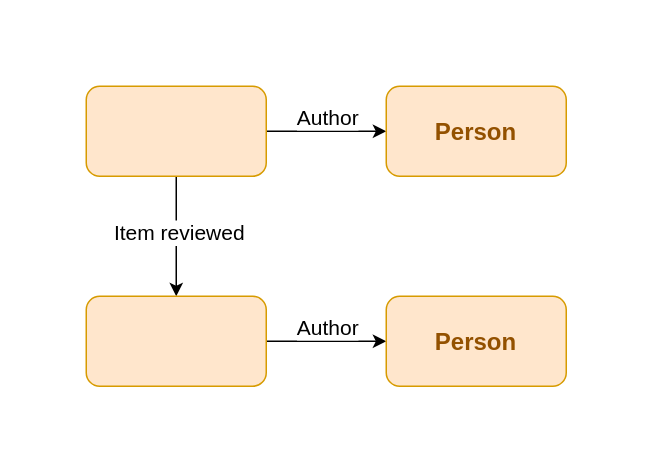
This 651x471 diagram has some shape labels left out. The shapes that lost their labels are listed below. From the top down, each one's centre as x and y in pixels, then its label:
At point (175, 130): "Review".
At point (175, 340): "Book".
